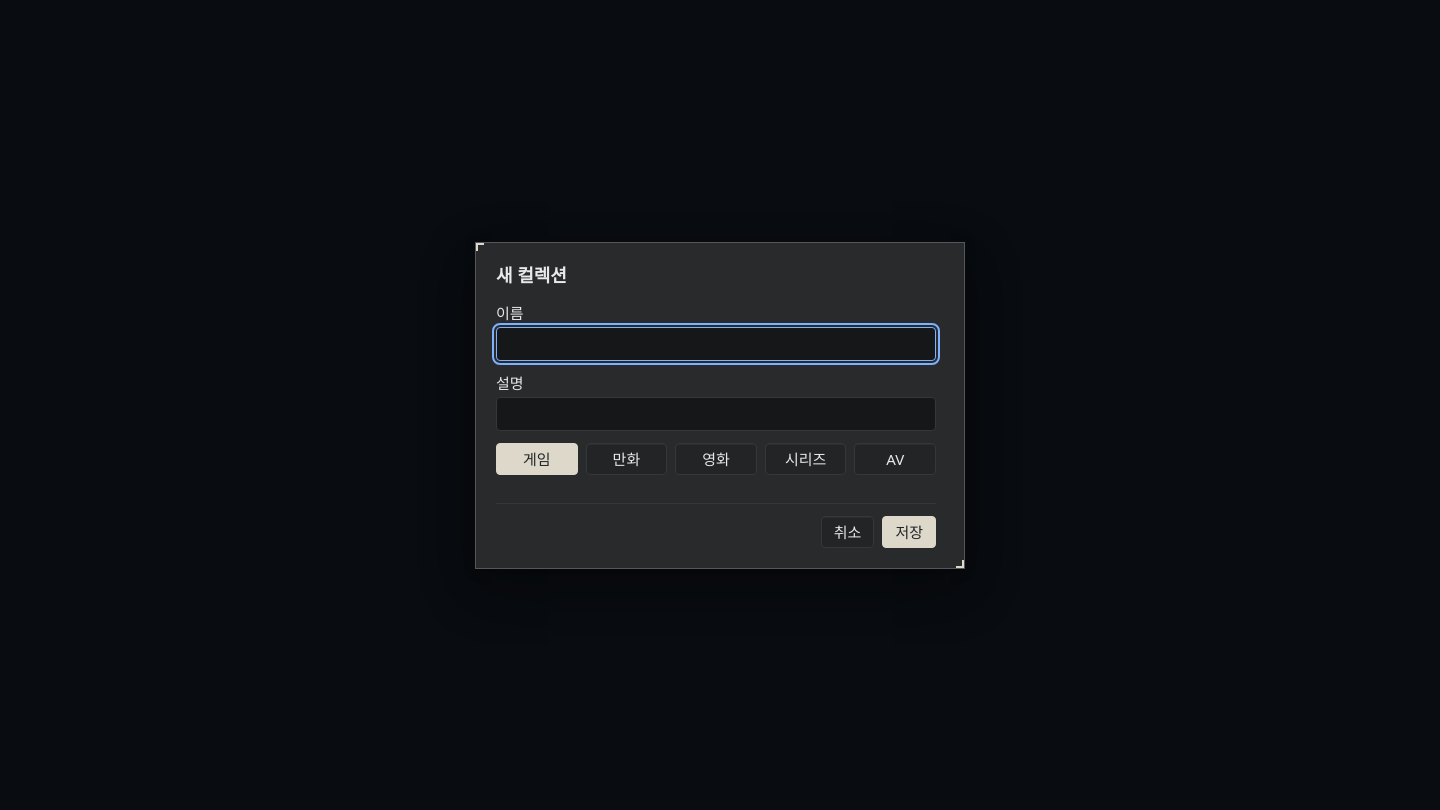
Test: shows the native trash-name conflict in the create dialog and keeps the draft
The width and height of the screenshot is (1440, 810).
In the field labelled "이름": (716, 344) [496,326,936,360], type "Reserved"
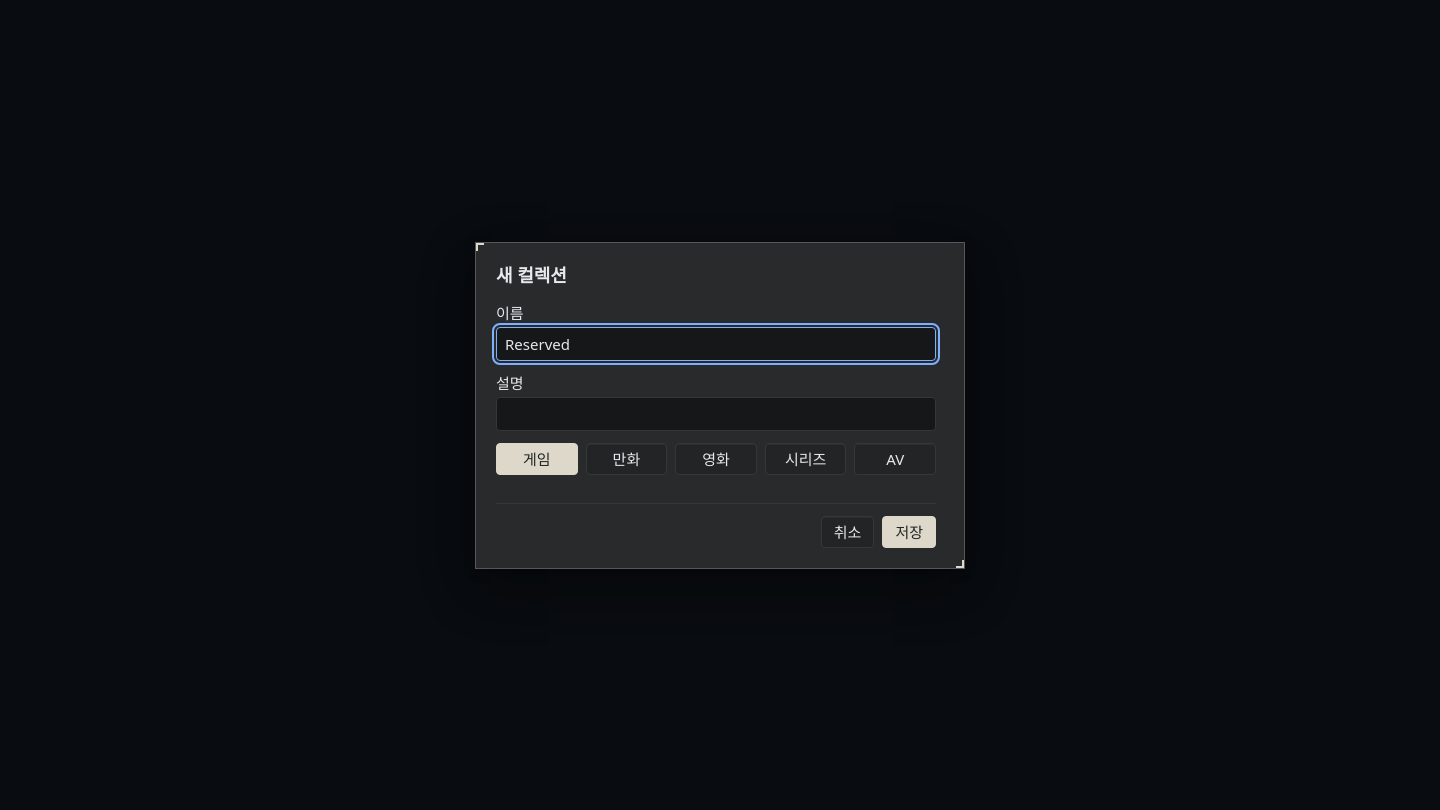
Click the button "저장": (909, 532) [882,516,936,548]
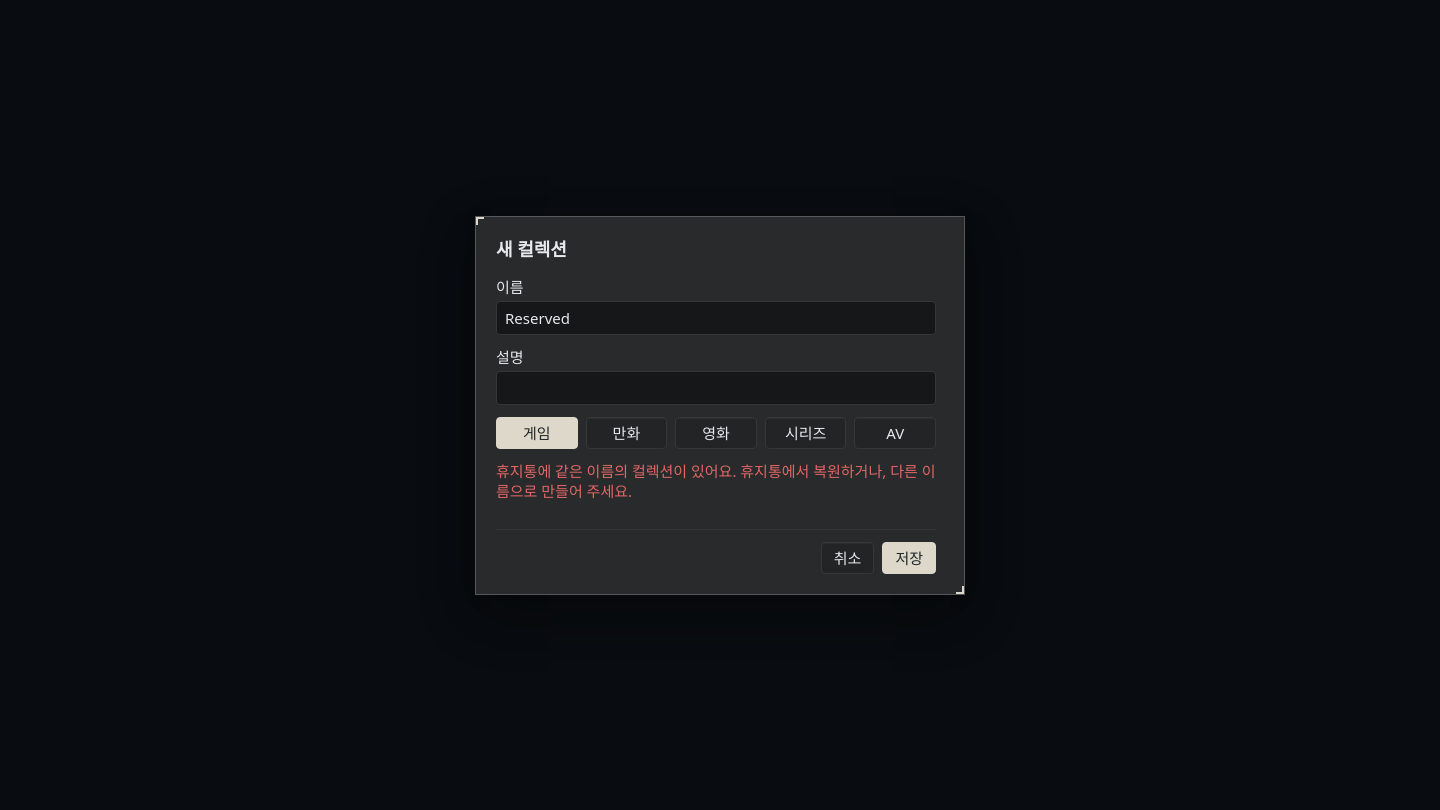
Check: the text "휴지통에 같은 이름의 컬렉션이 있어요. 휴지통에서 복원하거나, 다른 이름으로 만들어 주세요." is shown, box [496,460,936,500]
